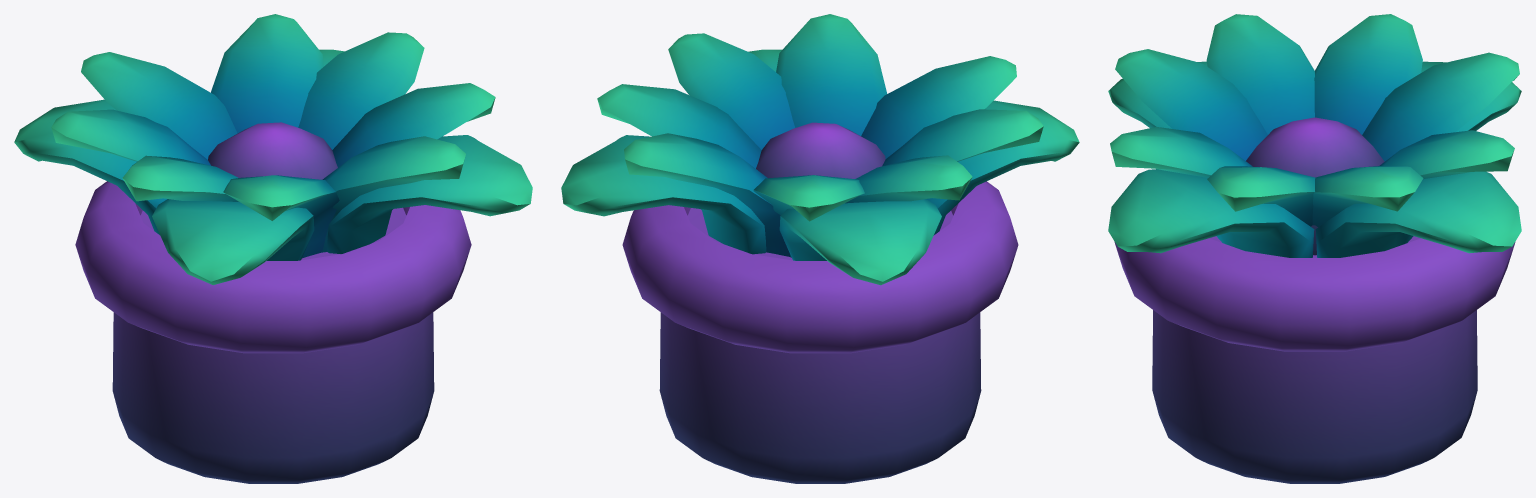
The model's file is Flower04.fbx.
3 renders of one model, left to right at view 1: azimuth 30°, elevation 25°; view 2: azimuth 150°, elevation 25°; view 3: azimuth 270°, elevation 25°, orthographic.
Parts seen in each view (by area): view 1: Flower04; view 2: Flower04; view 3: Flower04.
Part boxes in pixels (box(x1,y1,x2,y2)): Flower04: box(14, 14, 532, 483); Flower04: box(561, 14, 1079, 483); Flower04: box(1108, 14, 1521, 483).
Size of the model in its own units: 61.7 by 52.42 by 59.92.
